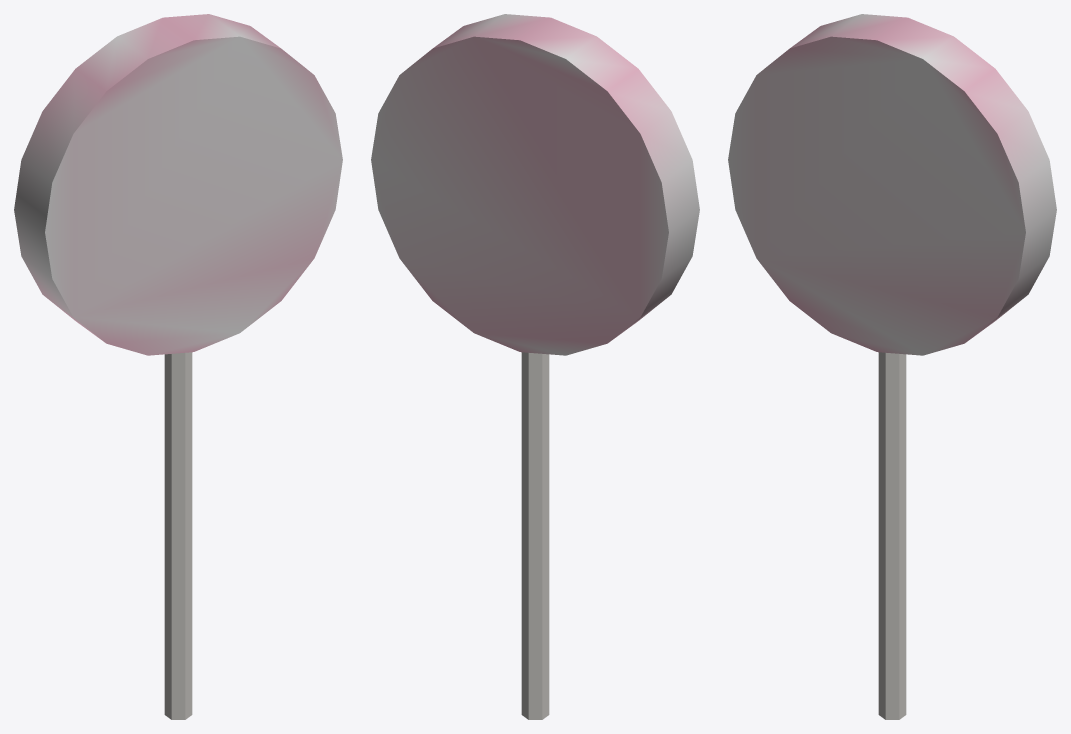
Rendered from prop_lollipop.glb.
3 renders of one model, left to right at view 1: azimuth 30°, elevation 25°; view 2: azimuth 150°, elevation 25°; view 3: azimuth 330°, elevation 25°, orthographic.
Parts seen in each view (by area): view 1: prop_lollipop; view 2: prop_lollipop; view 3: prop_lollipop.
Part boxes in pixels (left/top/right/bottom): prop_lollipop: left=14, top=14, right=342, bottom=719; prop_lollipop: left=371, top=14, right=699, bottom=719; prop_lollipop: left=728, top=14, right=1056, bottom=719.
Bounding box in the file's own units: 0.5 × 1.1 × 0.09.
